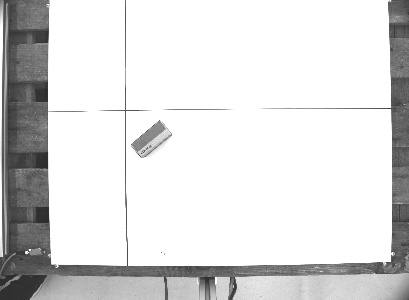b3: (128, 117, 173, 159)
